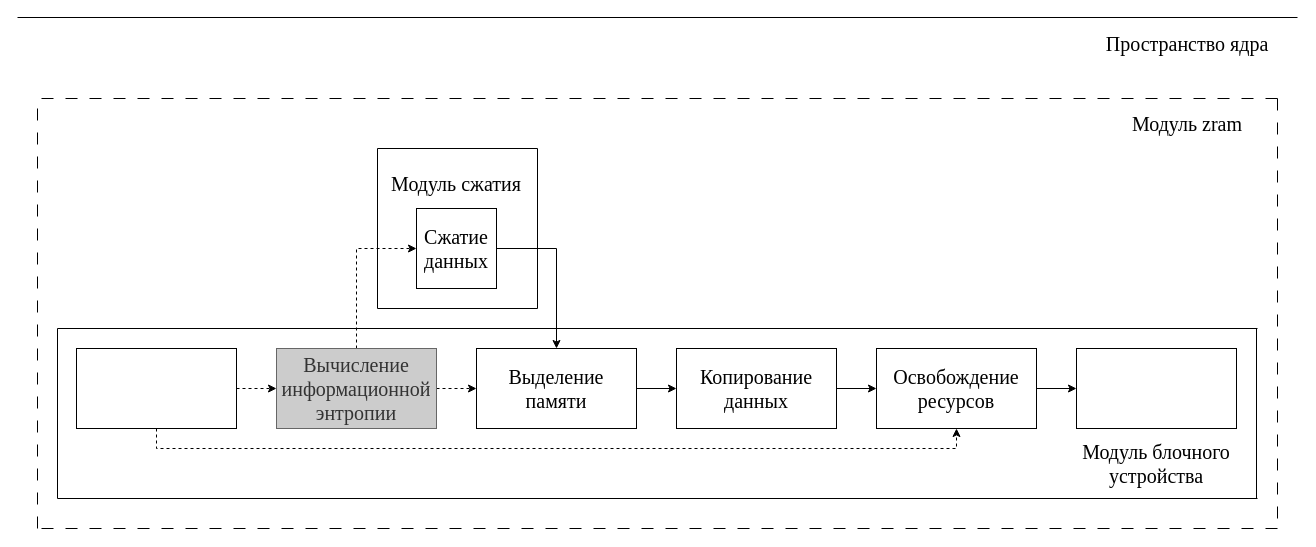
The diagram is 1316 pixels wide and 547 high, and some of its shapes have lost their labels. The centre of each missing label's shape, as x and y in pixels:
Обновление статистики: the point at 1156,388
Проверка повторяющихся данных: the point at 156,388
